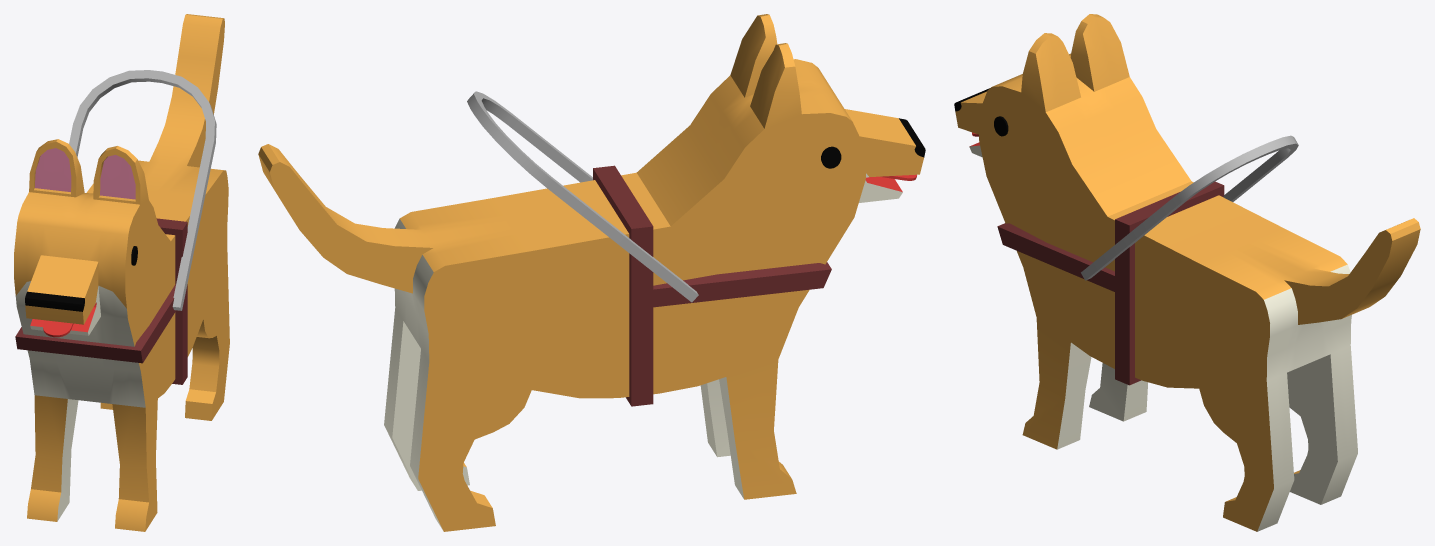
File: guide_dog.glb
3 views of the same model, side by side, from view 1: azimuth 30°, elevation 25°; view 2: azimuth 150°, elevation 25°; view 3: azimuth 270°, elevation 25° (orthographic). The views are drawn at different scales.
Visible parts, largest first — view 1: Plane.001, Cube.6170, Plane.109, Cube.001; view 2: Plane.001, Cube.6170, Plane.109; view 3: Plane.001, Cube.6170, Plane.109.
Part boxes in pixels (x1,y1,x2,y2): Plane.001: (14, 14, 229, 531); Cube.6170: (15, 218, 187, 384); Plane.109: (69, 70, 216, 310); Cube.001: (43, 320, 73, 337); Plane.001: (258, 14, 925, 531); Cube.6170: (593, 165, 831, 406); Plane.109: (467, 91, 698, 302); Plane.001: (954, 14, 1420, 531); Cube.6170: (997, 181, 1224, 385); Plane.109: (1081, 135, 1298, 280).
Size of the model in its own units: 2.06 by 1.91 by 2.06.
Materials: 1 (1 with a texture image).
